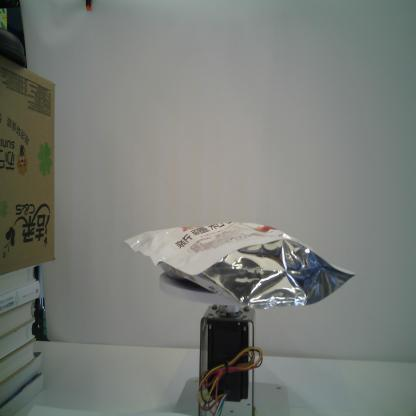Dried Food: (122, 217, 357, 310)
